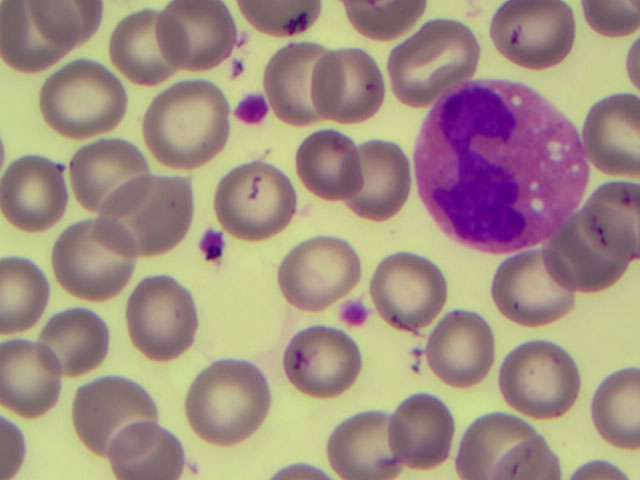Platelets: (236, 94, 266, 127), (345, 298, 368, 325), (201, 229, 223, 256)
RBC: (103, 175, 197, 254), (184, 364, 270, 445), (152, 84, 231, 170), (490, 1, 579, 76), (71, 379, 155, 456), (386, 16, 452, 108), (495, 253, 577, 326), (52, 226, 136, 297), (341, 134, 409, 221), (560, 214, 632, 294), (268, 46, 340, 126), (328, 414, 412, 480), (42, 70, 120, 140), (159, 2, 236, 72), (312, 48, 384, 121), (378, 256, 448, 329), (458, 410, 531, 480), (504, 345, 577, 415), (111, 14, 185, 83), (131, 279, 196, 357), (215, 173, 298, 234), (285, 332, 364, 394), (427, 313, 493, 386), (1, 1, 72, 67), (75, 145, 146, 210), (276, 239, 347, 304), (394, 399, 456, 471), (3, 159, 68, 226), (588, 92, 640, 174), (298, 134, 361, 201), (590, 180, 640, 264), (1, 340, 59, 412), (595, 364, 640, 453), (114, 425, 185, 480), (46, 308, 106, 372), (1, 257, 45, 337), (337, 1, 420, 36), (33, 1, 99, 44), (234, 1, 320, 33), (501, 437, 563, 480), (579, 1, 639, 40), (620, 37, 640, 90)
WBC: (422, 89, 574, 248)
